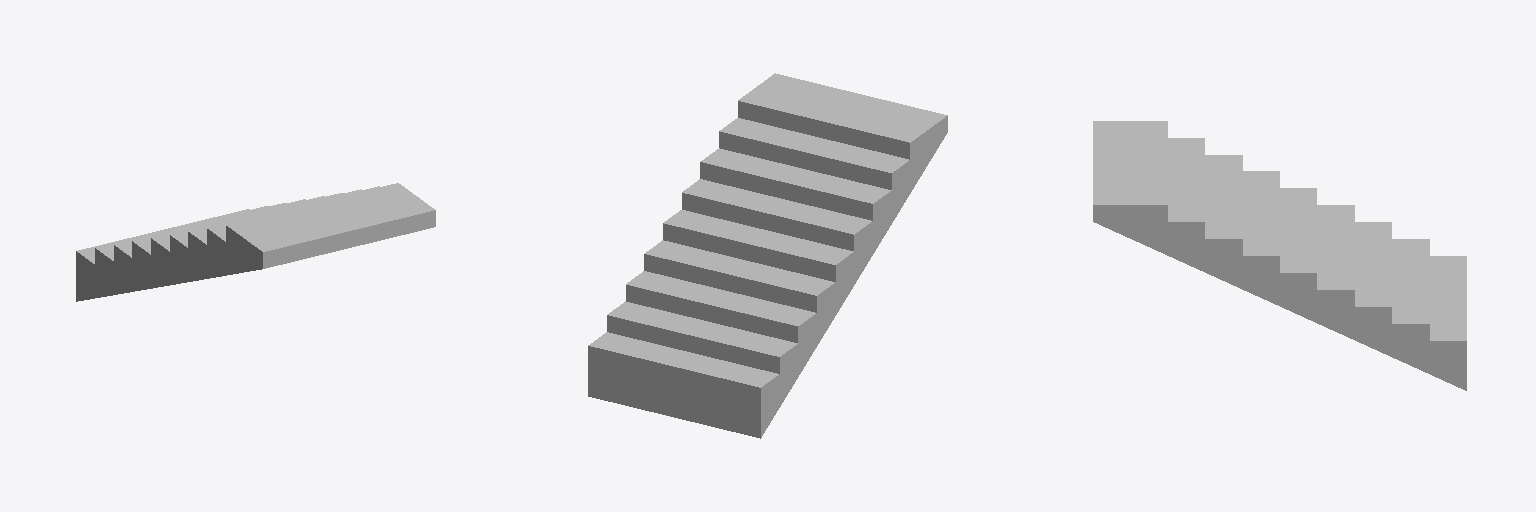
File: Stairs (100).obj
3 views of the same model, side by side, from view 1: azimuth 30°, elevation 25°; view 2: azimuth 150°, elevation 25°; view 3: azimuth 270°, elevation 25° (orthographic).
Parts seen in each view (by area): view 1: Stairs (100); view 2: Stairs (100); view 3: Stairs (100).
Boxes of the visible parts, x1,y1,x2,y2 form: Stairs (100): [76, 183, 435, 301]; Stairs (100): [588, 73, 947, 438]; Stairs (100): [1093, 121, 1466, 390].
Size of the model in its own units: 2.67 by 2.75 by 5.